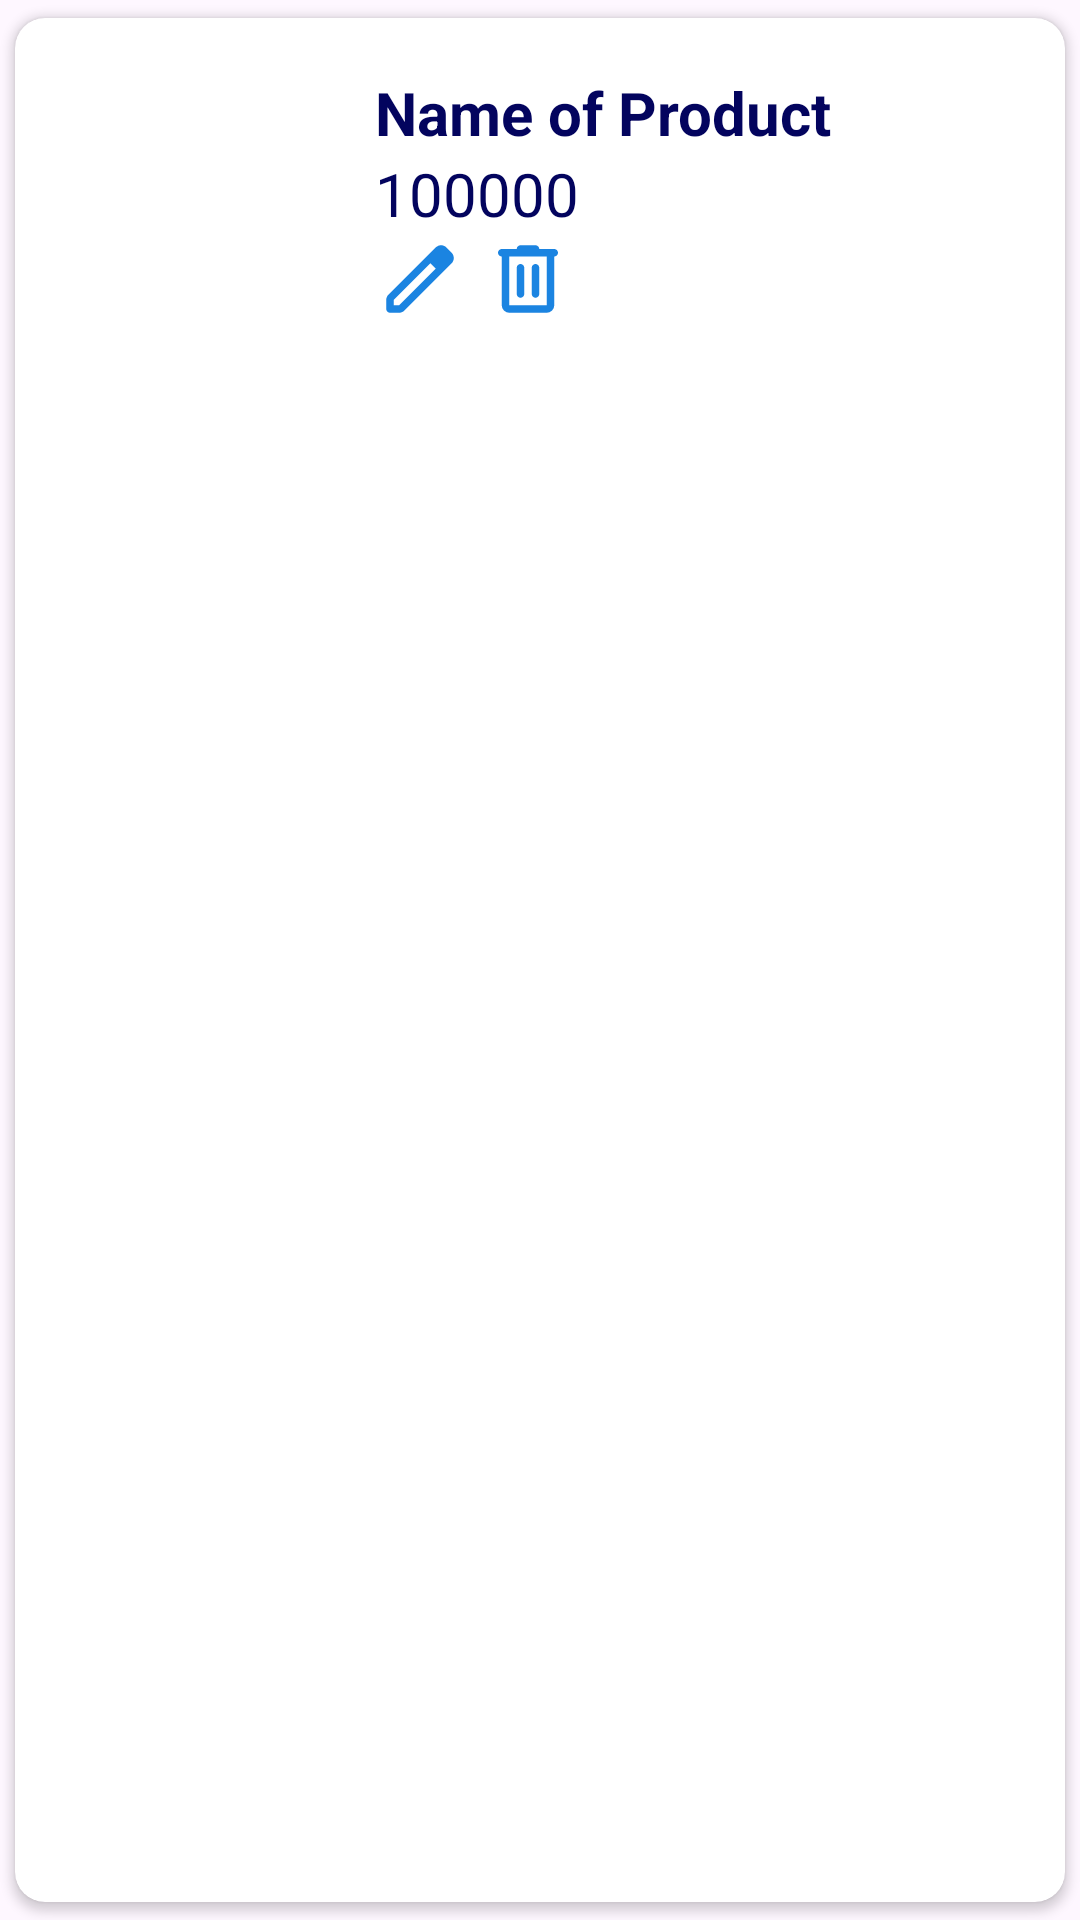

Screen size 1080*1920. Icon name, then its center in pixels as [x,y]:
delete: [528,279]
edit: [420,279]
